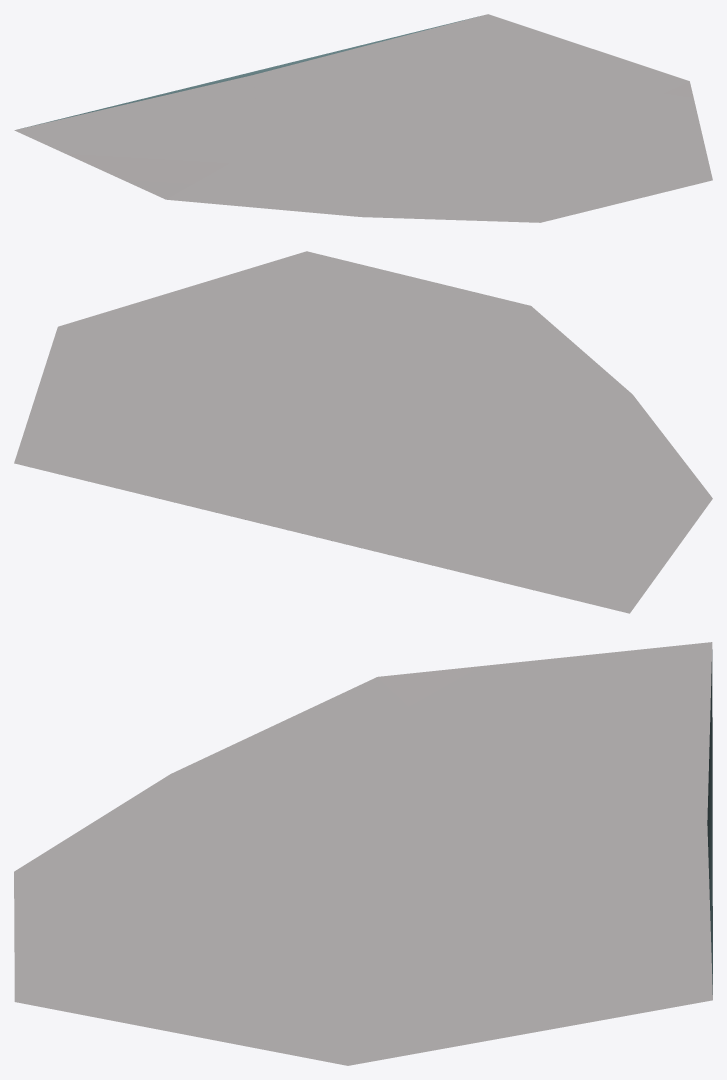
The model's file is Qmea8GDFHXzGd4h3w5nByTHPKq9VULkRM5TgbkiuQdnNiN_lod2.fbx.
The picture shows the model from 3 angles, top to bottom: view 1: azimuth 30°, elevation 25°; view 2: azimuth 150°, elevation 25°; view 3: azimuth 270°, elevation 25°; orthographic projection. The views are drawn at different scales.
Visible parts, largest first — view 1: Entity_512; view 2: Entity_512; view 3: Entity_512.
Boxes of the visible parts, x1,y1,x2,y2 form: Entity_512: [14, 14, 712, 222]; Entity_512: [14, 251, 712, 613]; Entity_512: [14, 642, 712, 1065].
Bounding box in the file's own units: 13780 × 42.38 × 9640.
Materials: 1 (1 with a texture image).
